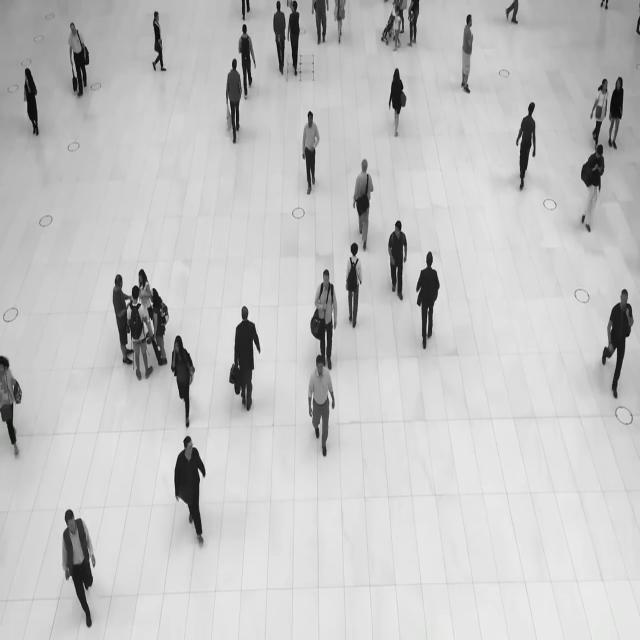Persona: (57, 503, 105, 639), (169, 430, 213, 554), (599, 277, 637, 406), (229, 290, 263, 415), (413, 236, 444, 366), (306, 351, 338, 462), (168, 326, 202, 425), (509, 100, 543, 196), (577, 136, 609, 238), (0, 346, 28, 462), (309, 264, 339, 363), (65, 13, 94, 109), (384, 213, 411, 311), (351, 146, 377, 243), (108, 264, 132, 369), (299, 101, 322, 199), (220, 57, 246, 143), (130, 284, 153, 379), (343, 240, 366, 334), (386, 60, 412, 140), (150, 274, 172, 361), (456, 8, 476, 101), (237, 20, 258, 106), (22, 62, 44, 140), (588, 70, 610, 144), (268, 0, 288, 79), (608, 67, 626, 153), (146, 6, 166, 82), (287, 0, 304, 78), (310, 0, 331, 50), (391, 5, 405, 52)
